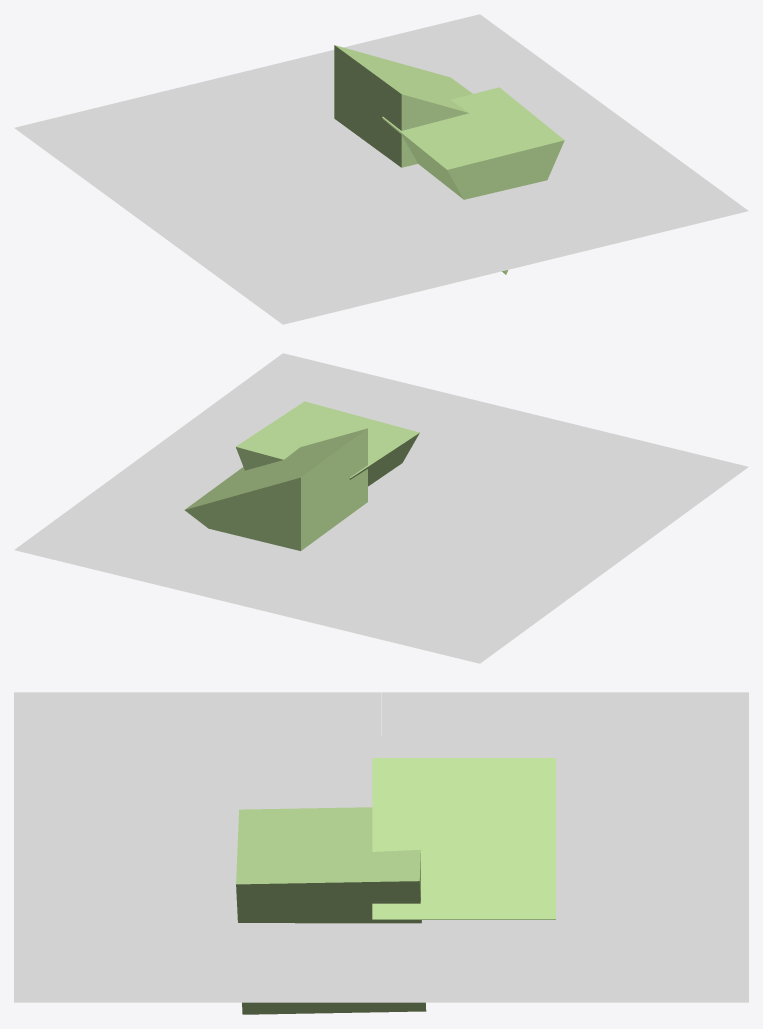
The picture shows the model from 3 angles, top to bottom: view 1: azimuth 30°, elevation 25°; view 2: azimuth 150°, elevation 25°; view 3: azimuth 270°, elevation 25°; orthographic projection. The views are drawn at different scales.
Visible parts, largest first — view 1: Plane, Plane.003, Plane.002, Plane.001, rock.001, rock; view 2: Plane, Plane.003, Plane.001, Plane.002, rock, rock.001; view 3: Plane.003, Plane.002, Plane.001, Plane, rock, rock.001.
Boxes of the visible parts, x1=… form: Plane: x1=14, y1=71, x2=381, y2=226; Plane.003: x1=149, y1=169, x2=515, y2=324; Plane.002: x1=382, y1=112, x2=748, y2=267; Plane.001: x1=247, y1=14, x2=613, y2=169; rock.001: x1=382, y1=87, x2=564, y2=274; rock: x1=334, y1=45, x2=472, y2=167; Plane: x1=247, y1=508, x2=613, y2=663; Plane.003: x1=382, y1=410, x2=748, y2=565; Plane.001: x1=14, y1=451, x2=380, y2=606; Plane.002: x1=149, y1=353, x2=515, y2=508; rock: x1=184, y1=428, x2=367, y2=550; rock.001: x1=236, y1=401, x2=419, y2=486; Plane.003: x1=14, y1=692, x2=381, y2=847; Plane.002: x1=14, y1=847, x2=381, y2=1002; Plane.001: x1=381, y1=847, x2=748, y2=1002; Plane: x1=381, y1=692, x2=748, y2=847; rock: x1=372, y1=758, x2=555, y2=919; rock.001: x1=236, y1=807, x2=426, y2=1014.
Bounding box in the file's own units: 4 × 1.31 × 4.
